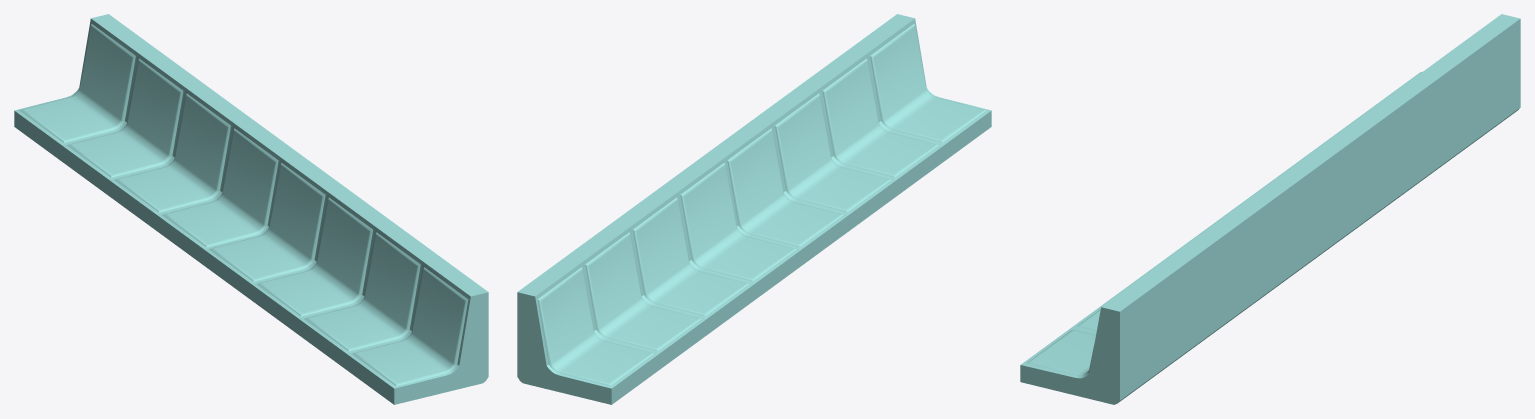
Rendered from Seats.fbx.
The picture shows the model from 3 angles, left to right: view 1: azimuth 30°, elevation 25°; view 2: azimuth 150°, elevation 25°; view 3: azimuth 330°, elevation 25°; orthographic projection. The views are drawn at different scales.
Parts seen in each view (by area): view 1: MetroFINALE.002; view 2: MetroFINALE.002; view 3: MetroFINALE.002.
Boxes of the visible parts, x1=… form: MetroFINALE.002: x1=14, y1=14, x2=488, y2=404; MetroFINALE.002: x1=517, y1=14, x2=991, y2=404; MetroFINALE.002: x1=1020, y1=14, x2=1520, y2=404.
Size of the model in its own units: 141 by 128 by 979.
